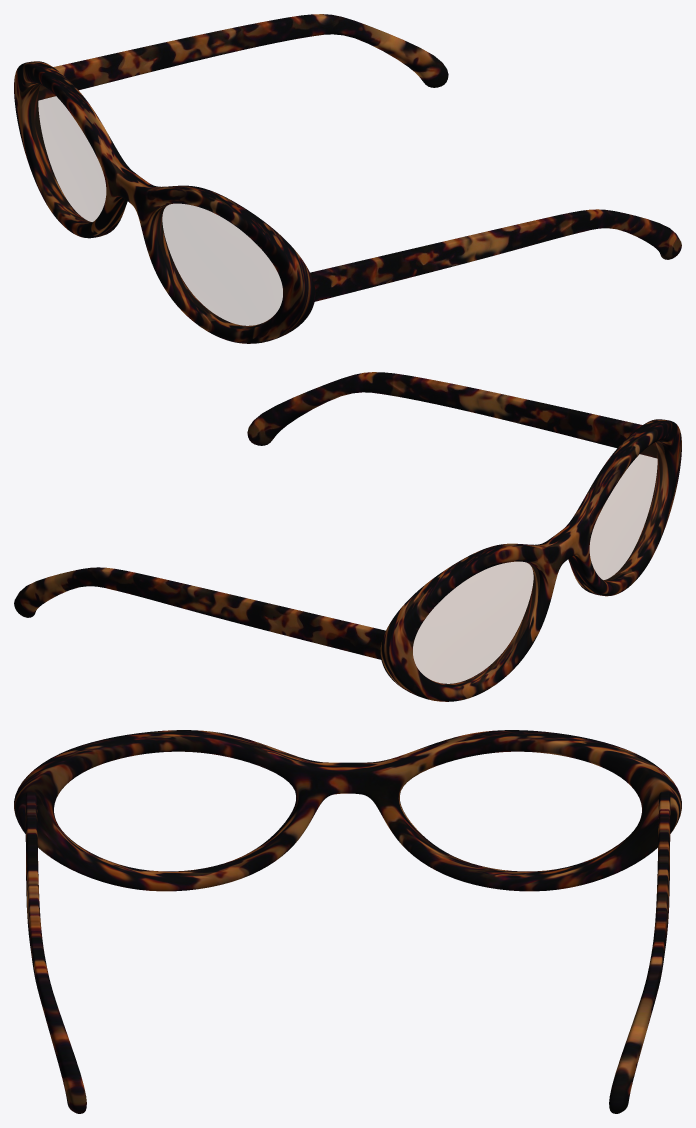
File: leopard.glb
The picture shows the model from 3 angles, top to bottom: view 1: azimuth 30°, elevation 25°; view 2: azimuth 150°, elevation 25°; view 3: azimuth 270°, elevation 25°; orthographic projection. The views are drawn at different scales.
Visible parts, largest first — view 1: Object001, Box001, Object002; view 2: Object001, Box001, Object002; view 3: Box001, Object001.
Part boxes in pixels (<box>): Object001: <box>38,14,681,301</box>; Box001: <box>14,61,315,343</box>; Object002: <box>30,84,282,326</box>; Object001: <box>14,372,657,659</box>; Box001: <box>380,419,681,701</box>; Object002: <box>413,442,665,684</box>; Box001: <box>14,730,681,891</box>; Object001: <box>25,792,670,1113</box>.
Size of the model in its own units: 0.1737 by 0.0512 by 0.199.
3 materials, 2 textured.
